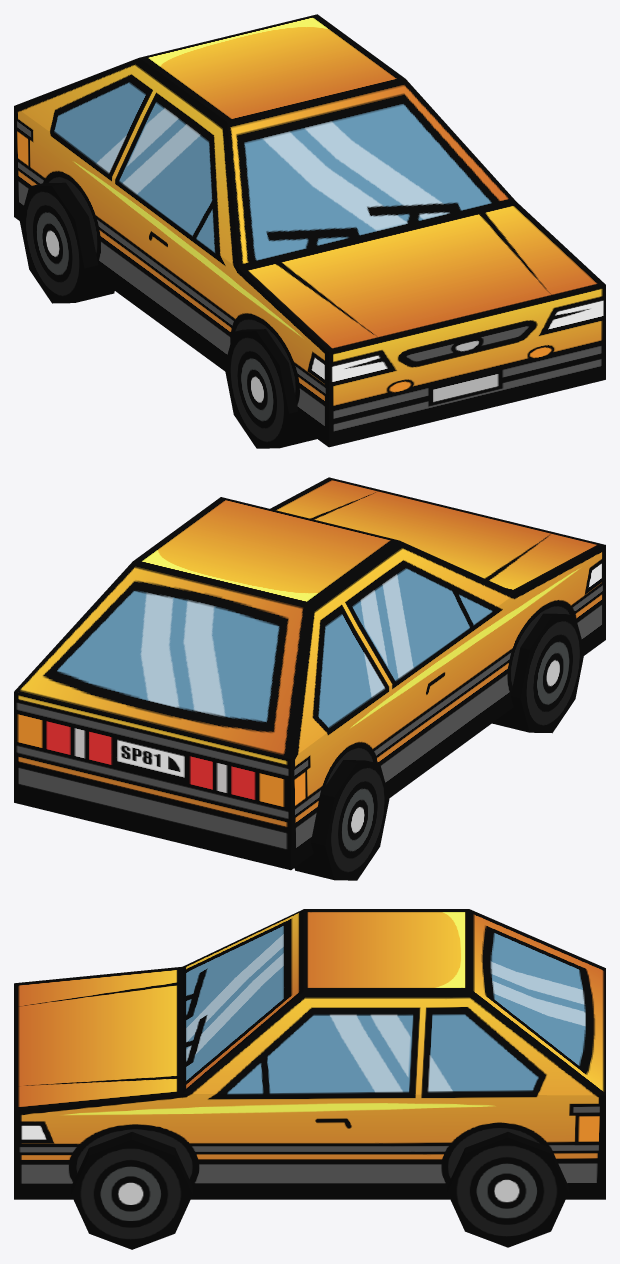
The model's file is car3_3.gltf.
The picture shows the model from 3 angles, top to bottom: view 1: azimuth 30°, elevation 25°; view 2: azimuth 150°, elevation 25°; view 3: azimuth 270°, elevation 25°; orthographic projection. The views are drawn at different scales.
Parts seen in each view (by area): view 1: Cube; view 2: Cube; view 3: Cube.
Part boxes in pixels (bbox=[...]): Cube: bbox=[14, 14, 605, 448]; Cube: bbox=[14, 477, 605, 880]; Cube: bbox=[14, 909, 605, 1249].
Bounding box in the file's own units: 2.83 × 2.15 × 5.01.
1 material, 1 textured.
